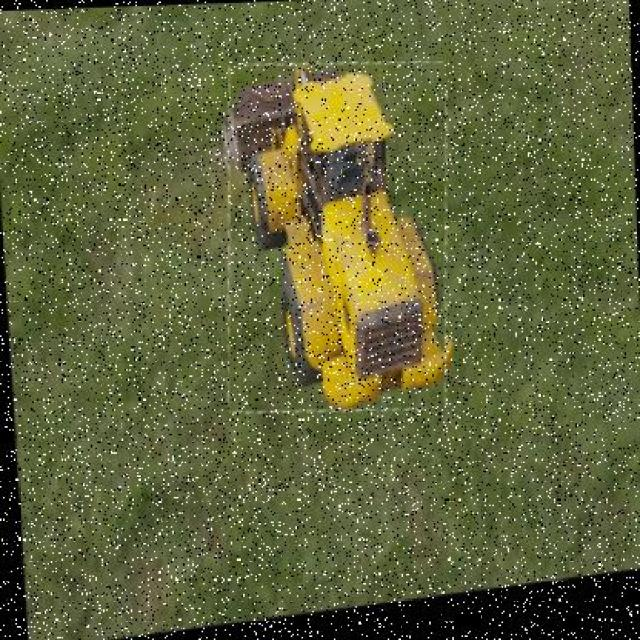buldozerpayloadergrader: (219, 62, 450, 413)
